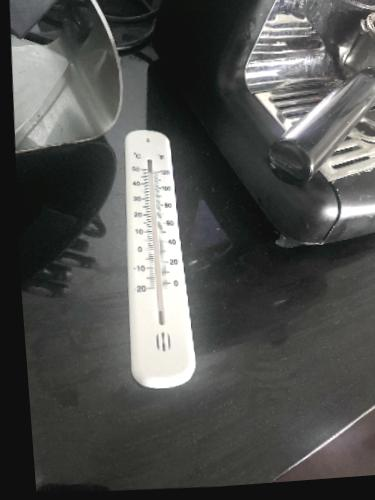thermo: (125, 130, 196, 380)
